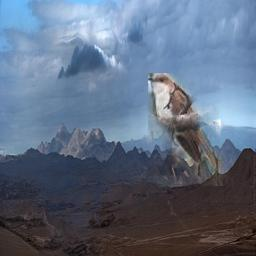Cuckoo: (148, 73, 234, 186)
